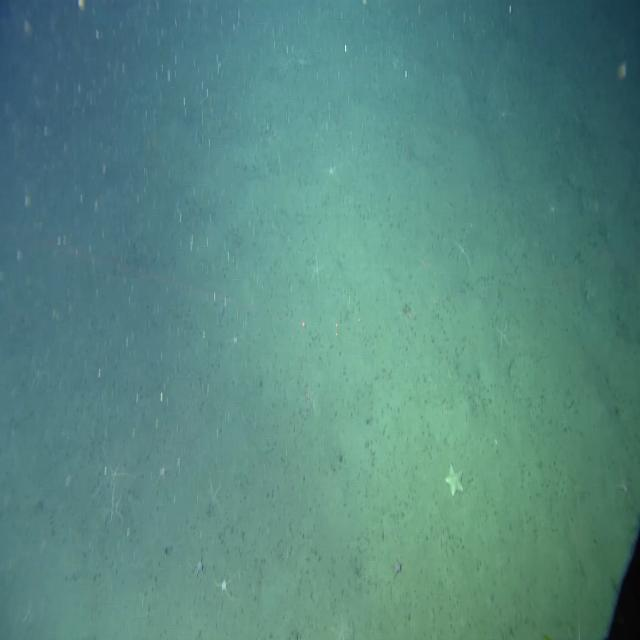Brittle Star: (210, 564, 237, 610), (101, 485, 126, 530)
Not Brittle Star: (444, 461, 465, 498)
